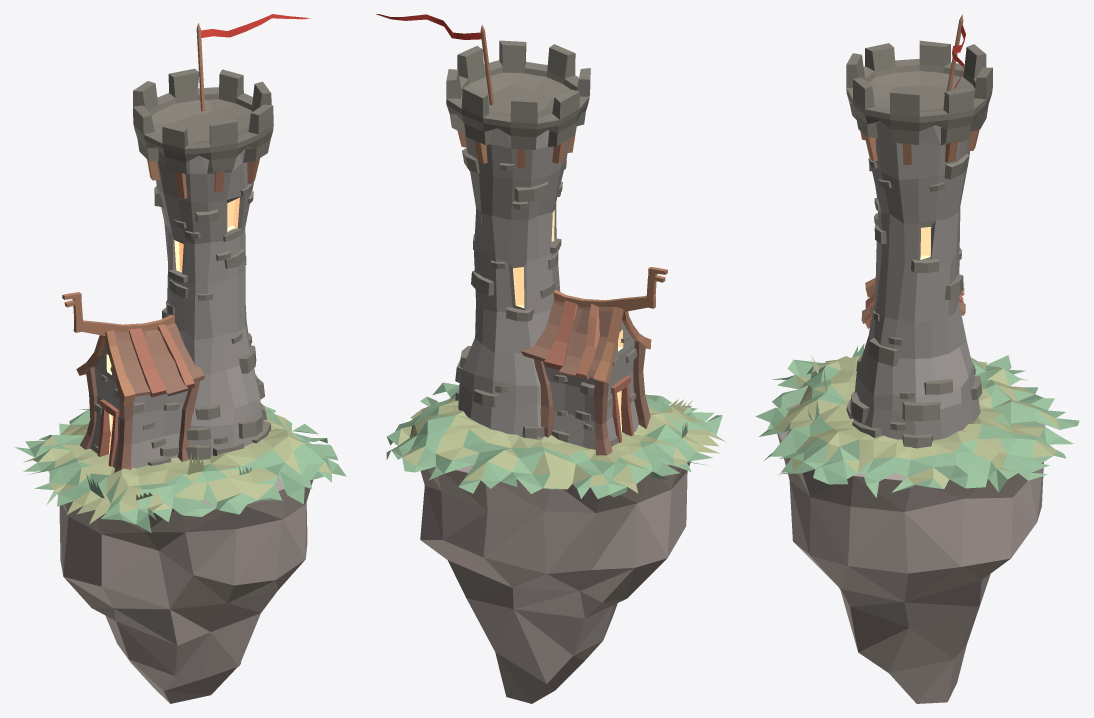
File: floating_castle.glb
The picture shows the model from 3 angles, left to right: view 1: azimuth 30°, elevation 25°; view 2: azimuth 150°, elevation 25°; view 3: azimuth 270°, elevation 25°; orthographic projection. The views are drawn at different scales.
Visible parts, largest first — view 1: Object_3, Object_4; view 2: Object_3, Object_4; view 3: Object_3, Object_4.
Part boxes in pixels (box(x1,y1,x2,y2)): Object_3: box(14, 406, 346, 703); Object_4: box(62, 14, 310, 472); Object_3: box(386, 382, 725, 703); Object_4: box(376, 14, 667, 455); Object_3: box(755, 343, 1079, 703); Object_4: box(846, 14, 992, 448).
Bounding box in the file's own units: 3.84 × 8.13 × 3.43.
Materials: 2 (2 with a texture image).
